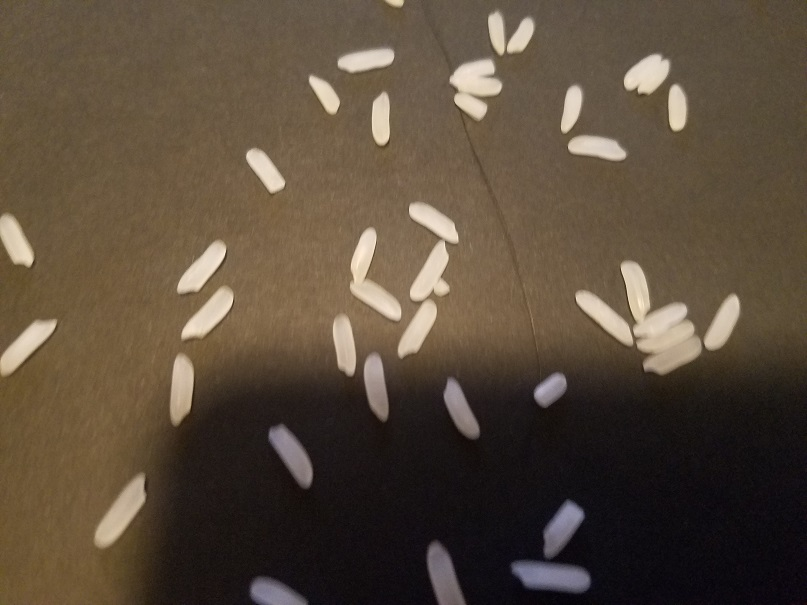egg: (91, 470, 153, 554), (177, 281, 237, 345), (573, 290, 638, 348), (1, 317, 56, 378), (435, 375, 482, 441), (540, 495, 588, 559), (179, 238, 229, 299), (270, 422, 312, 492), (423, 536, 464, 605), (507, 562, 592, 595), (396, 296, 440, 359), (409, 238, 450, 304), (642, 332, 702, 376), (700, 292, 742, 354), (348, 277, 407, 319), (169, 348, 198, 431), (244, 145, 287, 200), (617, 259, 653, 323), (1, 213, 39, 271), (632, 299, 688, 338), (362, 350, 390, 427), (409, 201, 461, 242), (329, 310, 359, 381), (642, 319, 696, 357), (564, 133, 628, 163), (246, 575, 308, 604), (350, 225, 378, 286), (333, 48, 400, 73), (620, 51, 661, 91), (529, 370, 568, 410), (309, 72, 345, 115), (558, 83, 586, 135), (446, 73, 503, 97), (635, 57, 669, 96), (667, 81, 690, 134), (372, 90, 392, 149), (452, 55, 496, 81), (507, 15, 537, 53), (483, 10, 508, 55), (453, 92, 488, 121), (431, 278, 452, 299), (383, 1, 406, 10)
